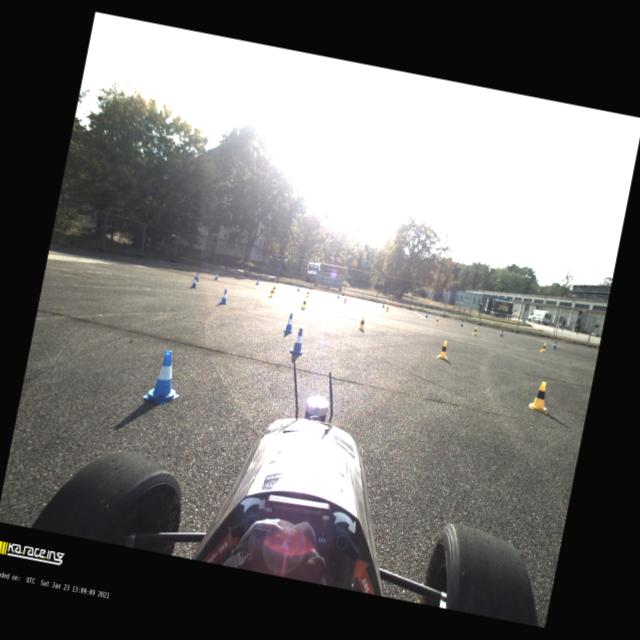blue_cone: (142, 348, 188, 407), (289, 327, 308, 356), (283, 312, 298, 334), (219, 288, 231, 305), (190, 276, 199, 290), (552, 340, 558, 350), (196, 272, 201, 282), (214, 272, 220, 280), (256, 278, 260, 286), (460, 319, 464, 327), (500, 330, 504, 338), (296, 285, 300, 292), (382, 302, 386, 308), (424, 312, 428, 318), (337, 294, 340, 298)
yellow_cone: (528, 381, 552, 414), (436, 340, 451, 360), (358, 316, 367, 330), (300, 298, 308, 310), (540, 342, 547, 352), (269, 288, 275, 298), (434, 316, 440, 326), (472, 326, 478, 336), (272, 284, 277, 294), (306, 290, 310, 298), (343, 296, 347, 304), (386, 304, 390, 312)
